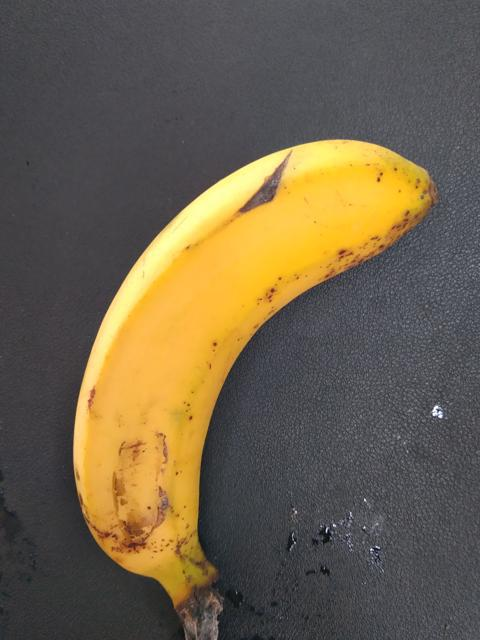ripe: (57, 118, 452, 575)
